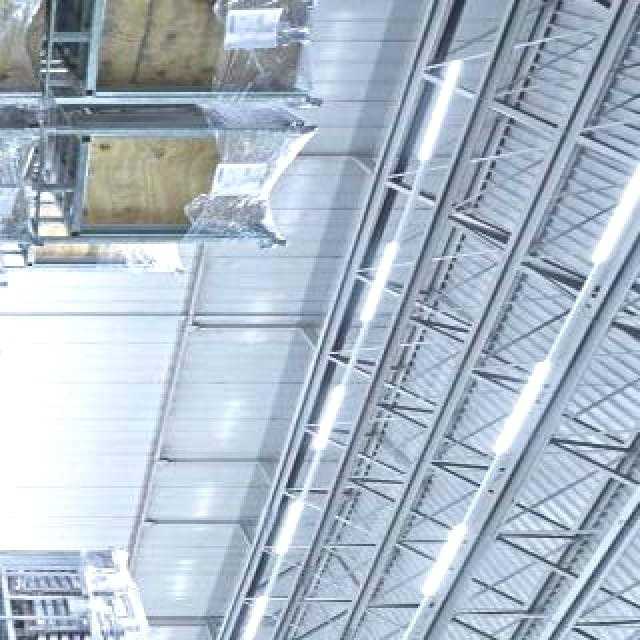fluorescent tube: (406, 42, 466, 174), (580, 146, 640, 277), (485, 353, 551, 465), (413, 503, 480, 605), (342, 234, 400, 342), (299, 378, 357, 464), (265, 484, 315, 558), (238, 582, 274, 640), (360, 632, 408, 640)
